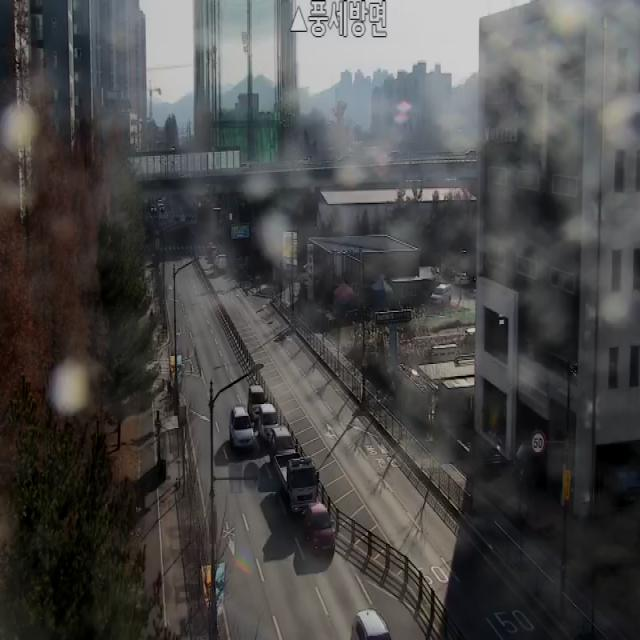Car: (305, 501, 335, 557), (351, 608, 391, 640), (230, 406, 254, 450), (270, 427, 294, 465), (258, 404, 278, 443), (248, 385, 267, 423), (430, 284, 452, 304), (209, 246, 218, 261), (207, 242, 213, 251)
Truck: (274, 452, 319, 514), (214, 254, 227, 272)
